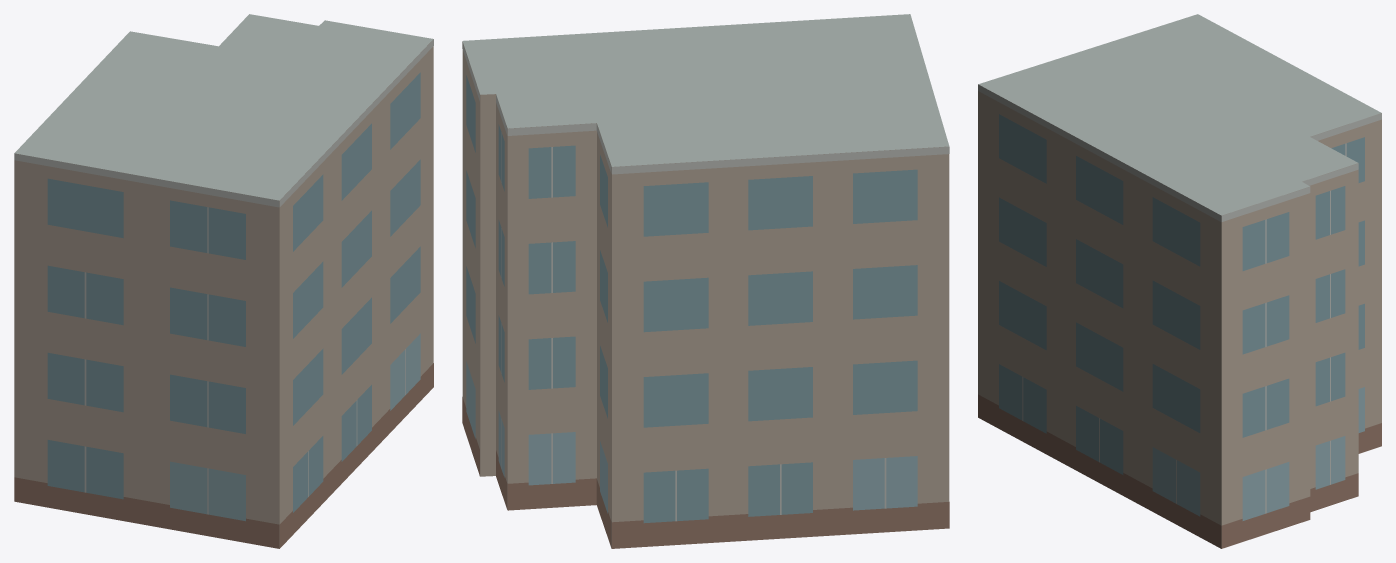
The model's file is survey-upis-33008791.glb.
3 renders of one model, left to right at view 1: azimuth 30°, elevation 25°; view 2: azimuth 150°, elevation 25°; view 3: azimuth 270°, elevation 25°, orthographic. The views are drawn at different scales.
Visible parts, largest first — view 1: survey-upis-33008791.tmp; view 2: survey-upis-33008791.tmp; view 3: survey-upis-33008791.tmp.
Boxes of the visible parts, x1,y1,x2,y2 form: survey-upis-33008791.tmp: (14,14,433,548); survey-upis-33008791.tmp: (462,14,949,548); survey-upis-33008791.tmp: (978,14,1381,548).
Bounding box in the file's own units: 15.97 × 12.3 × 13.51.
